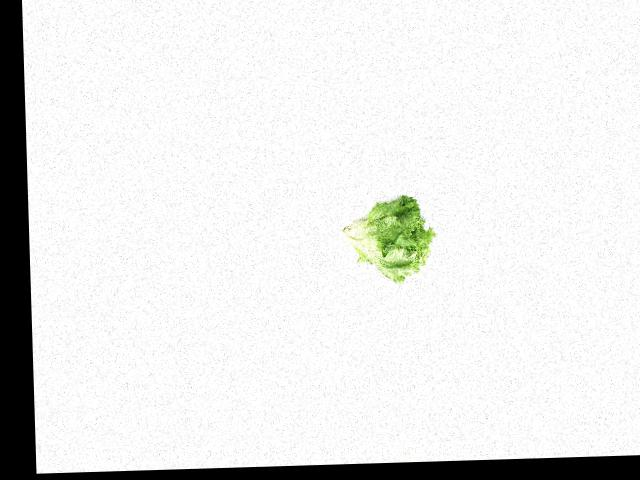lettuce: (340, 192, 435, 287)
